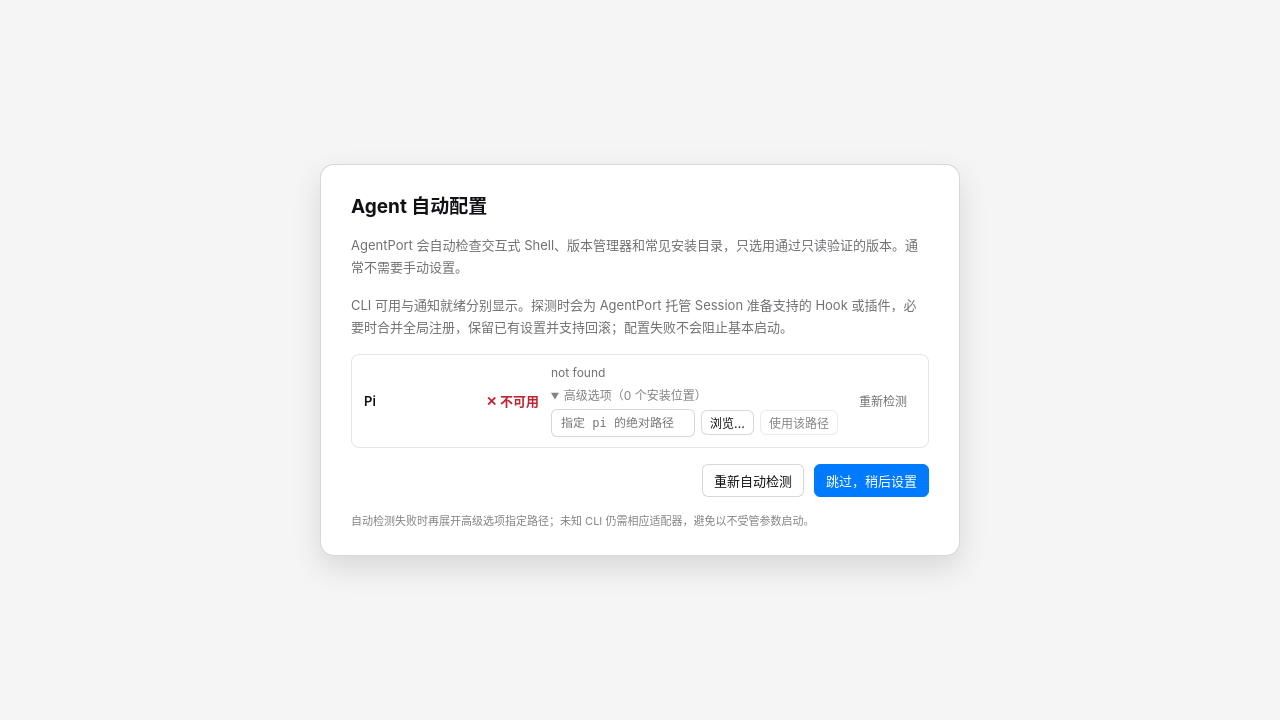
Test case: Onboarding localization › browses for an executable file instead of an installation directory
Expected: the text "not found" is shown, [551,365,605,380]
Click the button "浏览…": [727, 423] box [701,410,754,435]
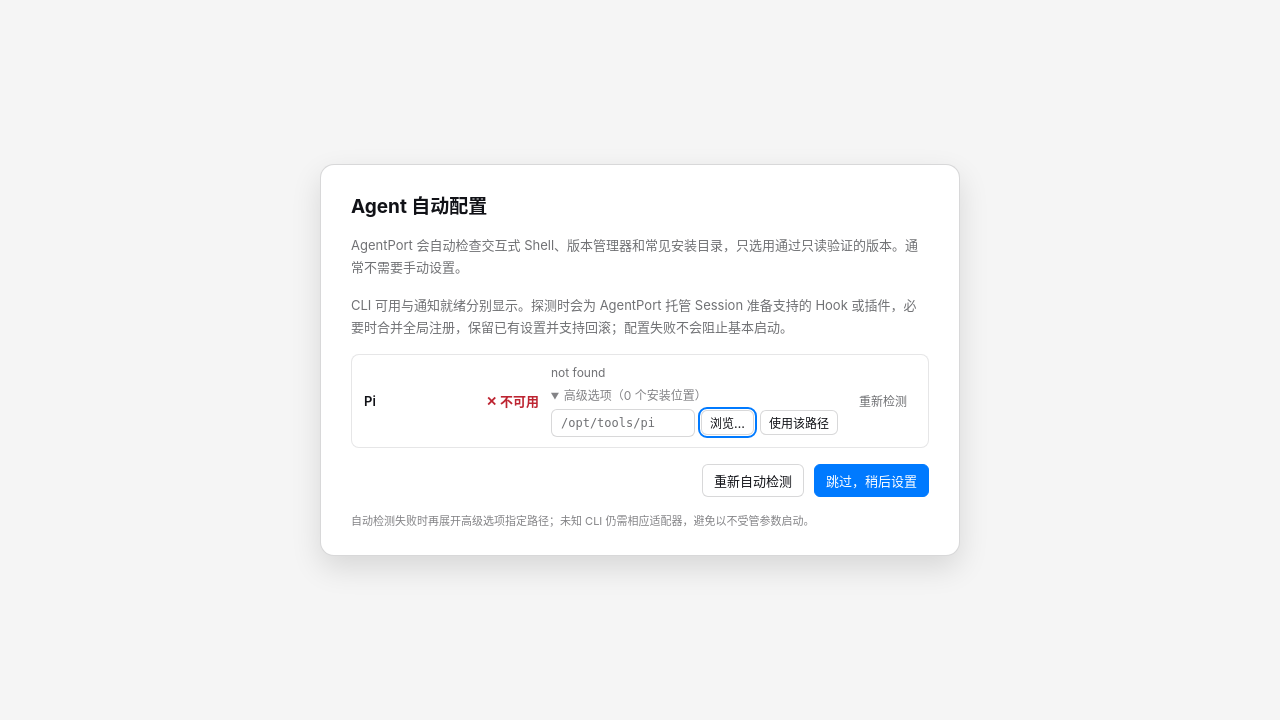
Expected: the field named "手动指定 Pi 路径" holds "/opt/tools/pi", [551,409,695,437]
